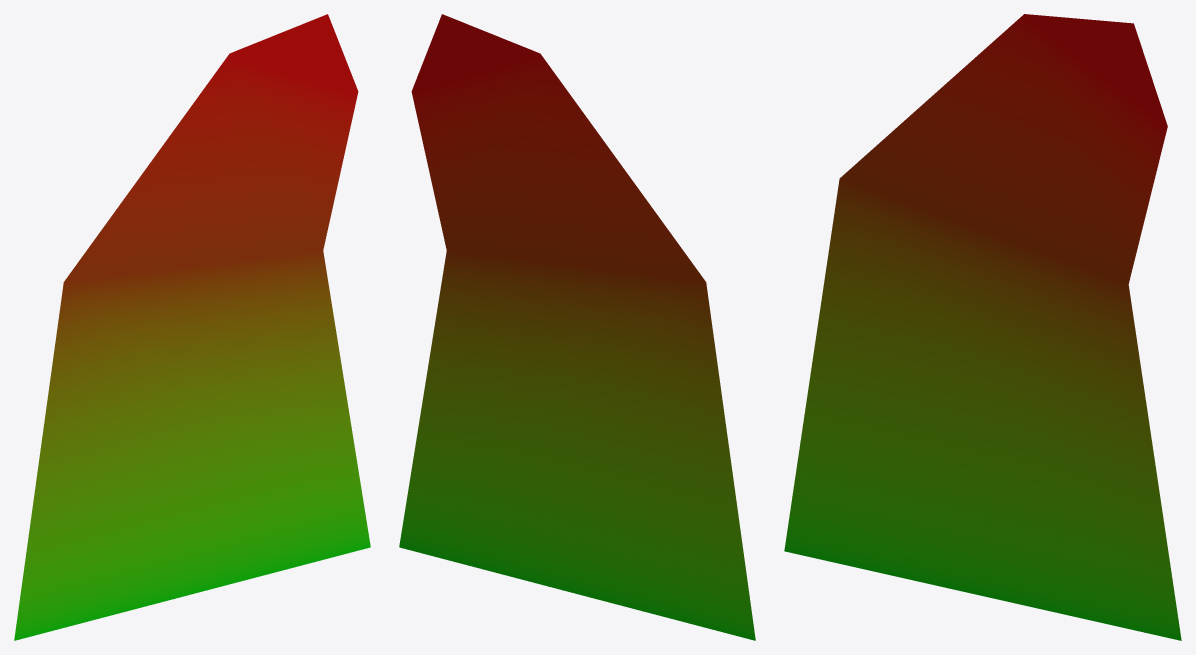
Rendered from Money Plant_LOD3_Var3_uchmfdyia.fbx.
3 renders of one model, left to right at view 1: azimuth 30°, elevation 25°; view 2: azimuth 150°, elevation 25°; view 3: azimuth 330°, elevation 25°, orthographic. The views are drawn at different scales.
Parts seen in each view (by area): view 1: _e882_Var3_LOD3; view 2: _e882_Var3_LOD3; view 3: _e882_Var3_LOD3.
Part boxes in pixels (box(x1,y1,x2,y2)): _e882_Var3_LOD3: box(14, 14, 370, 640); _e882_Var3_LOD3: box(399, 14, 755, 640); _e882_Var3_LOD3: box(784, 14, 1181, 640).
Size of the model in its own units: 22.65 by 33.39 by 9.9e-06.
